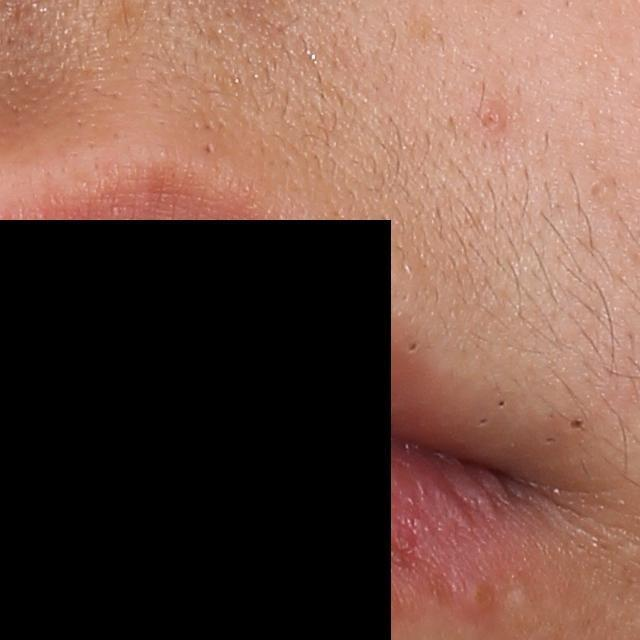comedo: (203, 141, 215, 156), (496, 396, 507, 410), (477, 417, 490, 428)
papule: (478, 103, 509, 131)
